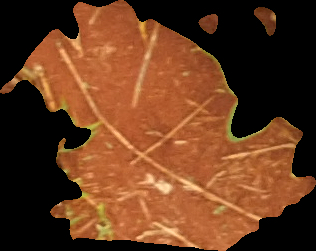soil: (2, 3, 315, 248)
